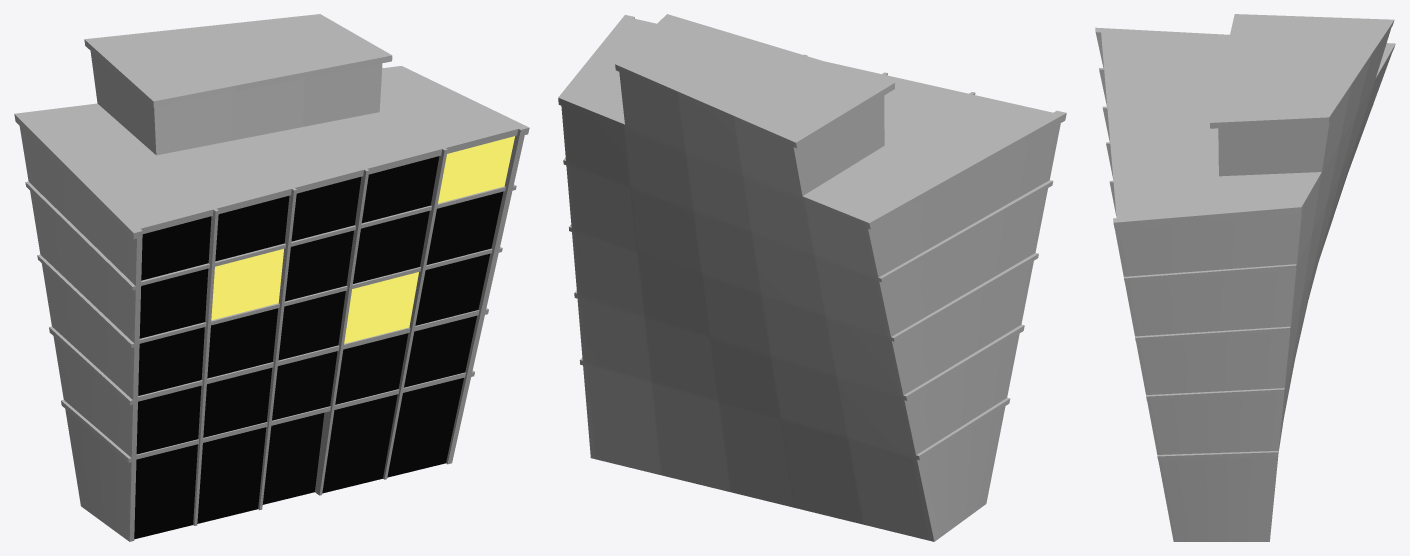
The model's file is Building05.fbx.
3 views of the same model, side by side, from view 1: azimuth 30°, elevation 25°; view 2: azimuth 150°, elevation 25°; view 3: azimuth 270°, elevation 25° (orthographic). The views are drawn at different scales.
Parts seen in each view (by area): view 1: Building05; view 2: Building05; view 3: Building05.
Boxes of the visible parts, left/top/right/bottom form: Building05: left=14, top=14, right=529, bottom=541; Building05: left=558, top=14, right=1066, bottom=541; Building05: left=1095, top=14, right=1395, bottom=541.
Bounding box in the file's own units: 897 × 855 × 584.
Materials: 2 (1 with a texture image).
